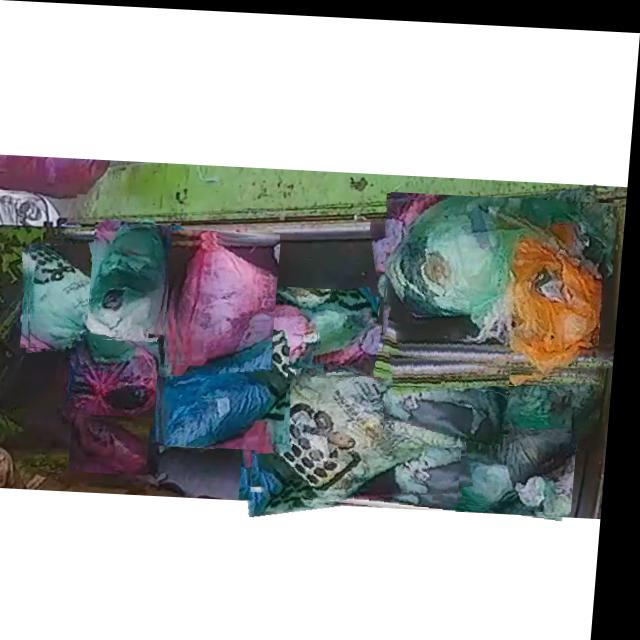general_trashbag: (388, 191, 609, 370), (255, 367, 469, 499), (437, 425, 583, 502), (93, 222, 170, 362), (272, 286, 376, 389), (513, 332, 607, 442), (31, 245, 109, 350), (391, 381, 506, 440)
other_trashbag: (164, 340, 292, 445), (179, 236, 281, 363), (66, 337, 162, 420), (322, 322, 448, 383), (80, 413, 153, 472)
